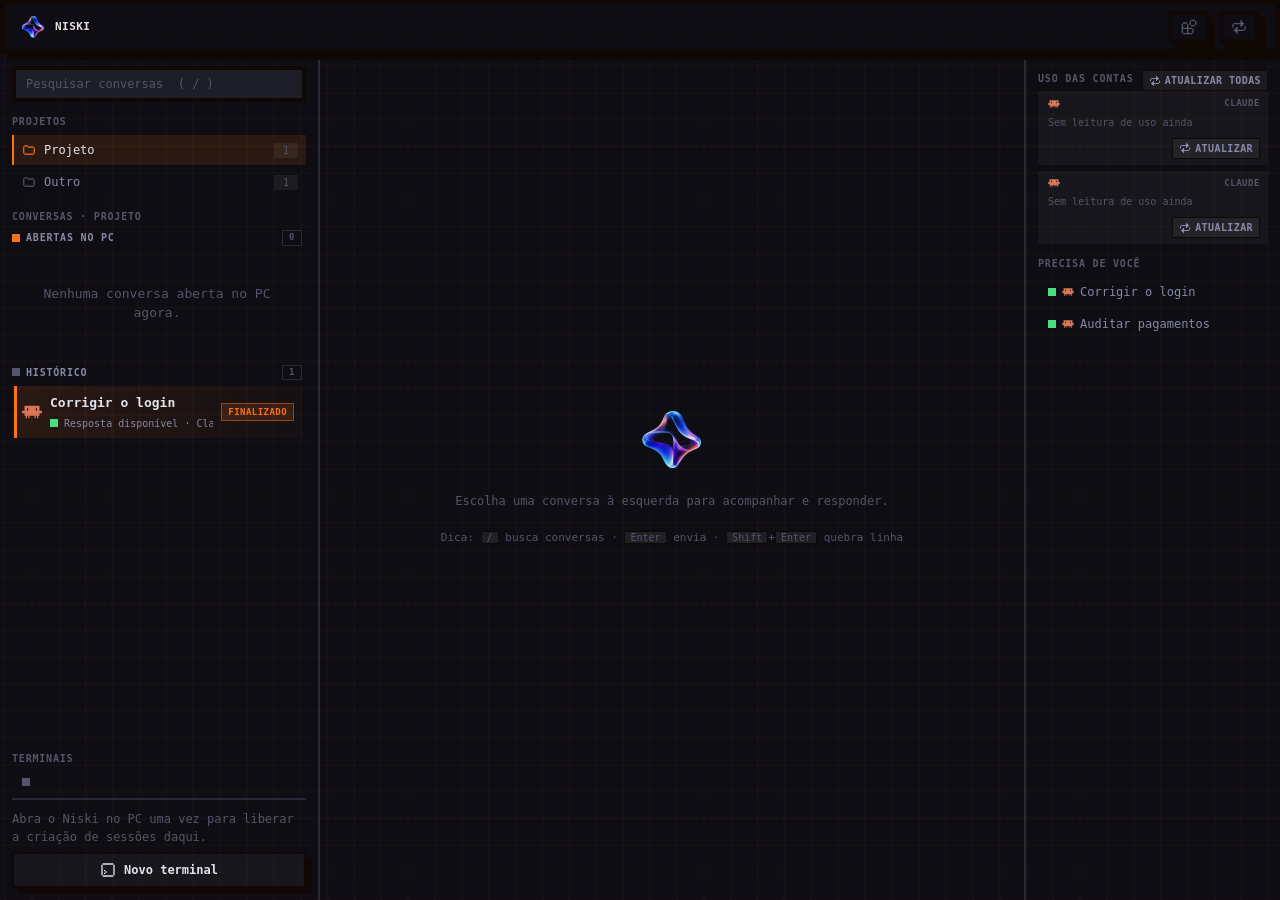
Scenario: troca de projeto com conversa aberta, pesquisa globalmente e oferece voltar
Click the button with aria-label "Abrir conversa Corrigir o login".
click(157, 412)  # box [12, 386, 302, 438]
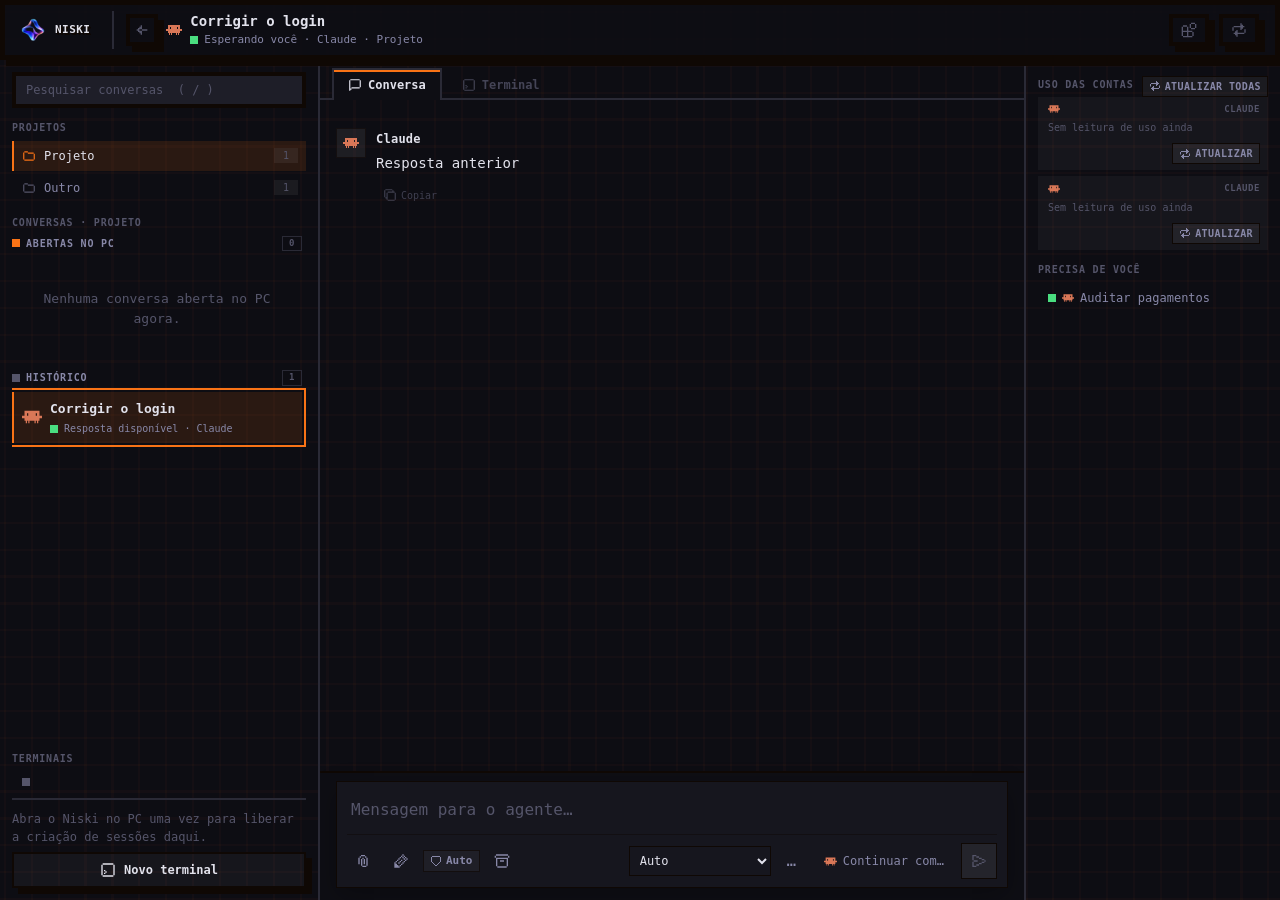
expect the button named "Fechar conversa" is shown: met, box [126, 14, 158, 46]
Click the button "Outro 1".
click(62, 188)  # box [12, 172, 306, 202]
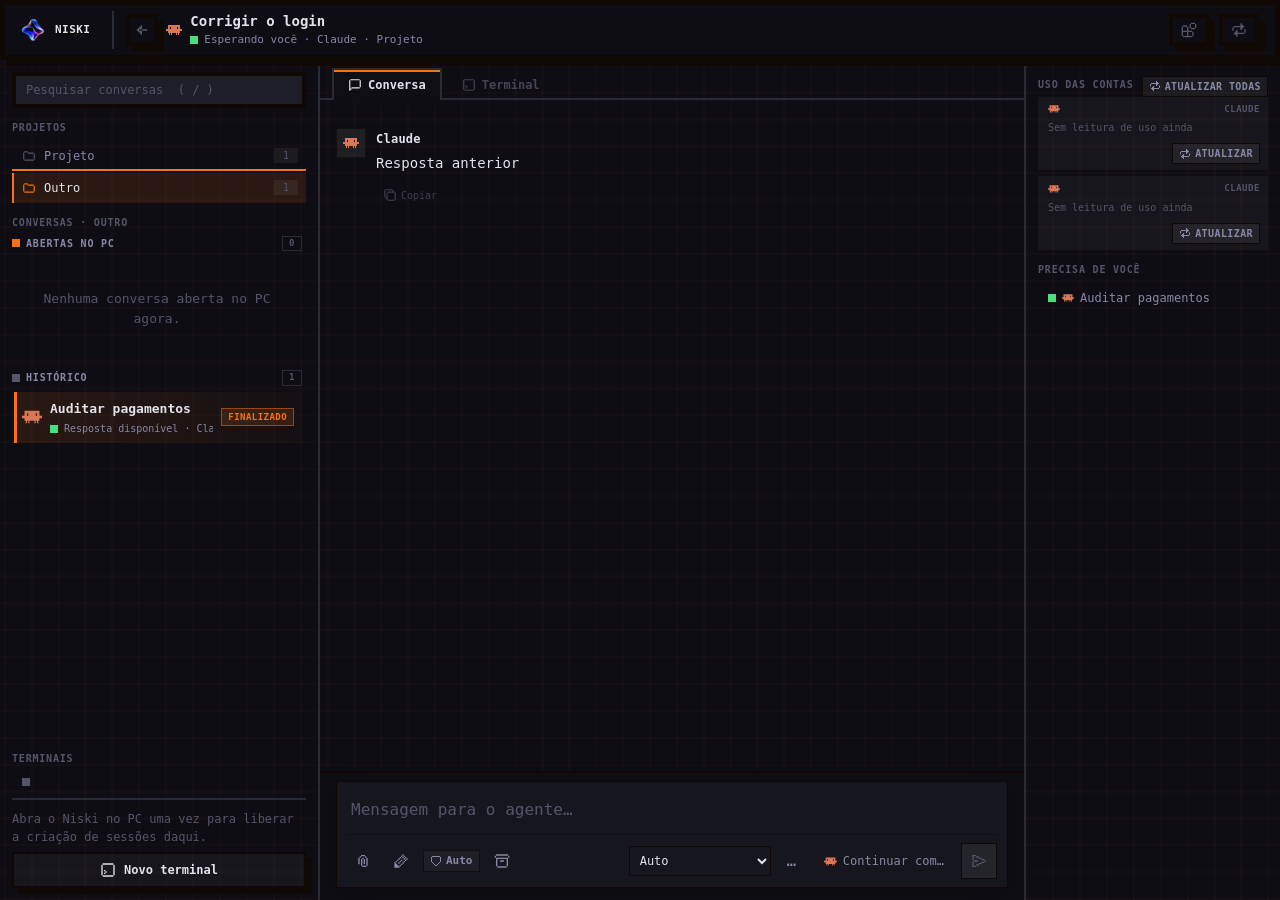
expect the button with aria-label "Abrir conversa Auditar pagamentos" is shown: met, box [12, 392, 302, 443]
Type "login" into the search field labelled "Pesquisar conversas".
click(159, 90); type("login")  # box [12, 72, 306, 108]
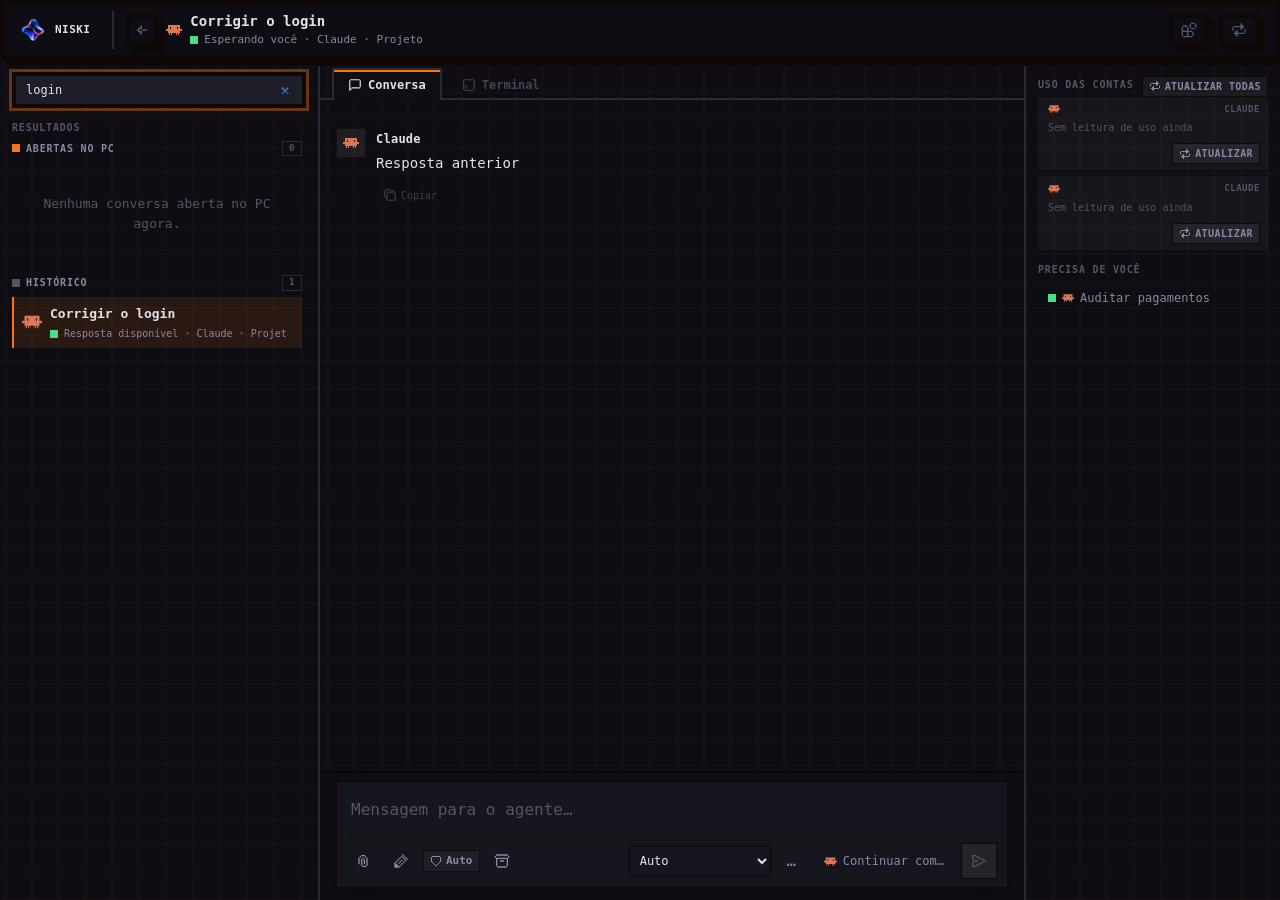
expect the button with aria-label "Abrir conversa Corrigir o login" is shown: met, box [12, 296, 302, 348]
Click the button named "Fechar conversa".
click(142, 30)  # box [126, 14, 158, 46]
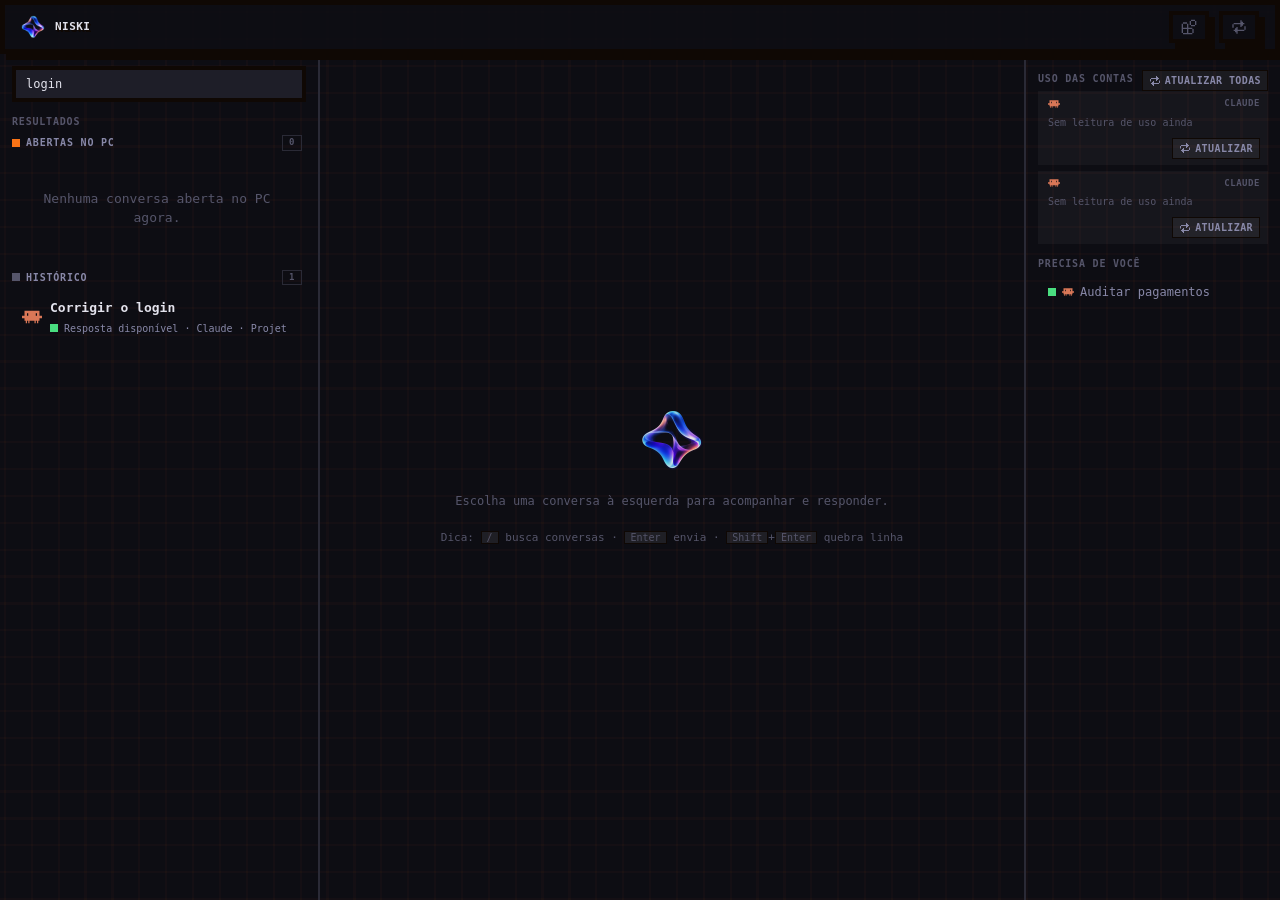
expect the text "Escolha uma conversa à esquerda para acompanhar e responder." is shown: met, box [455, 494, 889, 508]
